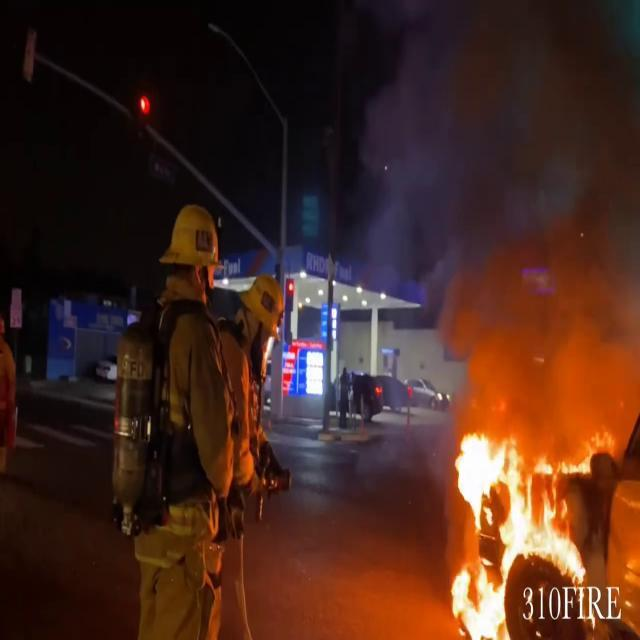Fire: (438, 422, 591, 636)
Smoke: (354, 0, 640, 411)
